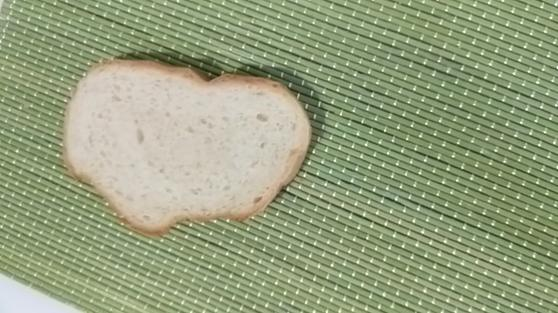white_bread: (61, 58, 314, 236)
